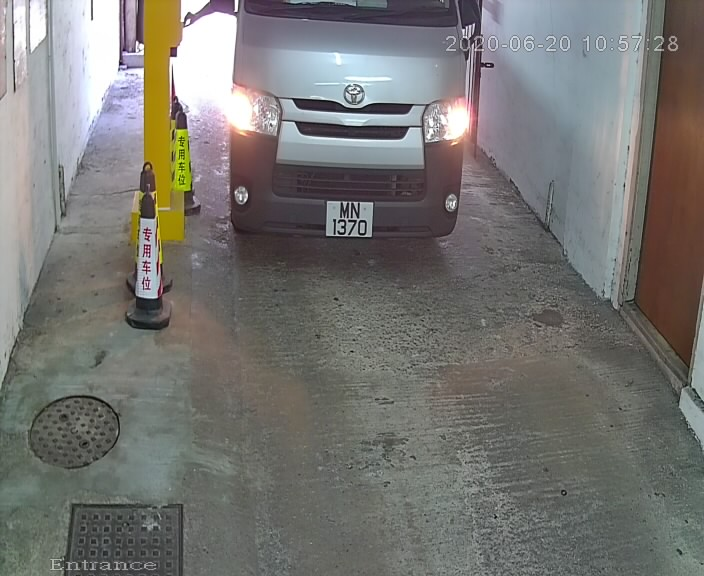privatecar: (223, 3, 485, 274)
